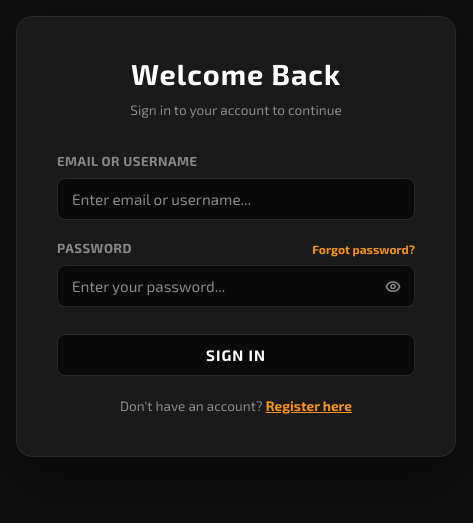
Test: Login form › blocks submission when fields are empty
The width and height of the screenshot is (473, 523).
Click the button "Sign In".
click(236, 356)  # box [57,334,415,376]
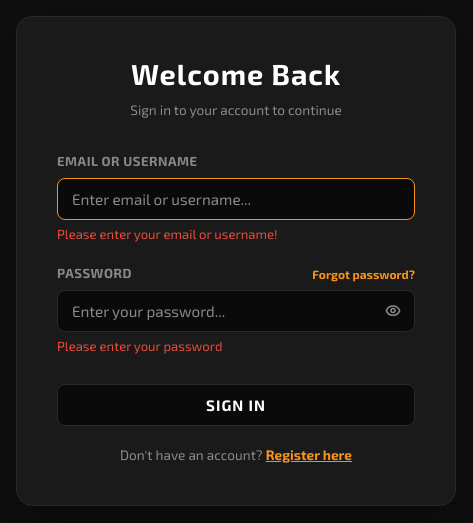
Check: the text "Please enter your email or username!" is shown, box [57,226,278,242]
